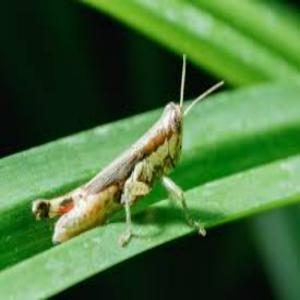locust: (55, 81, 204, 253)
